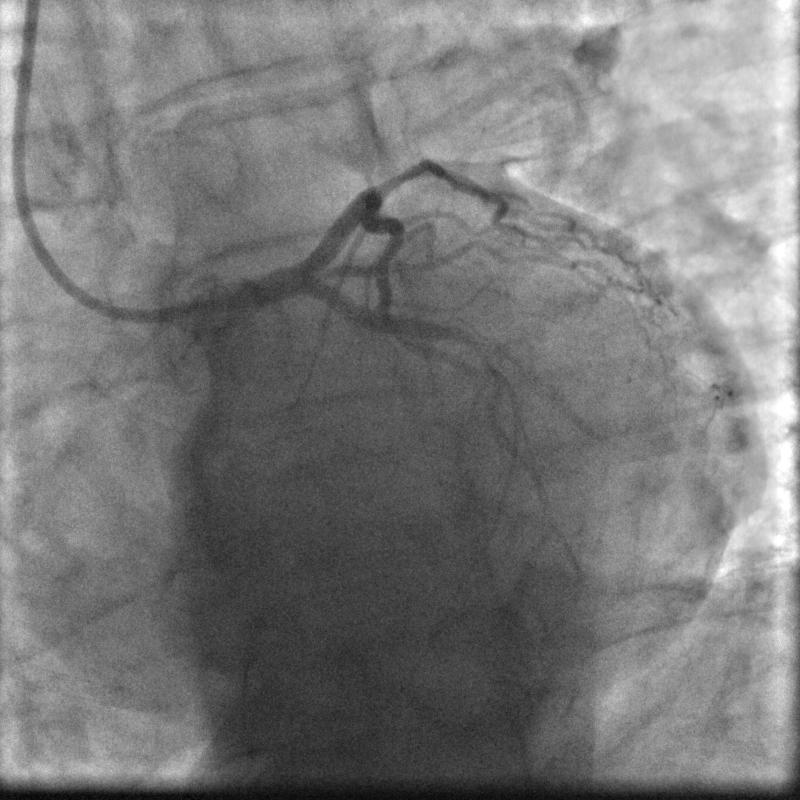Stenosis: (369, 153, 426, 192)
